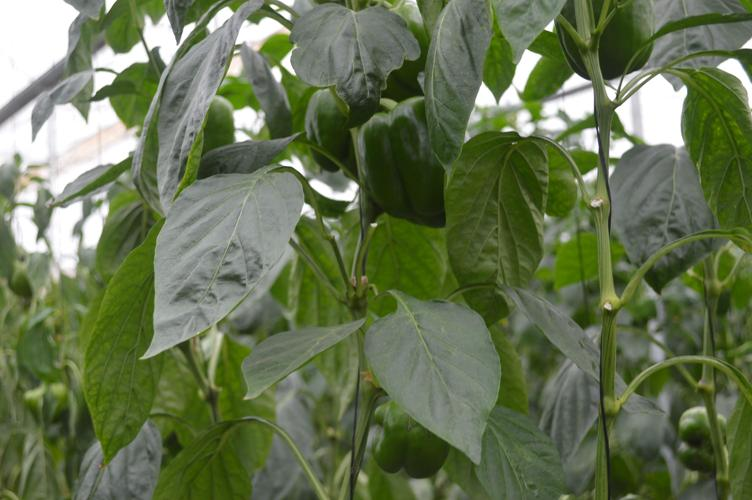BellPepper: (357, 97, 441, 220), (362, 406, 456, 478), (560, 5, 656, 75), (305, 90, 348, 166), (201, 97, 238, 146)
